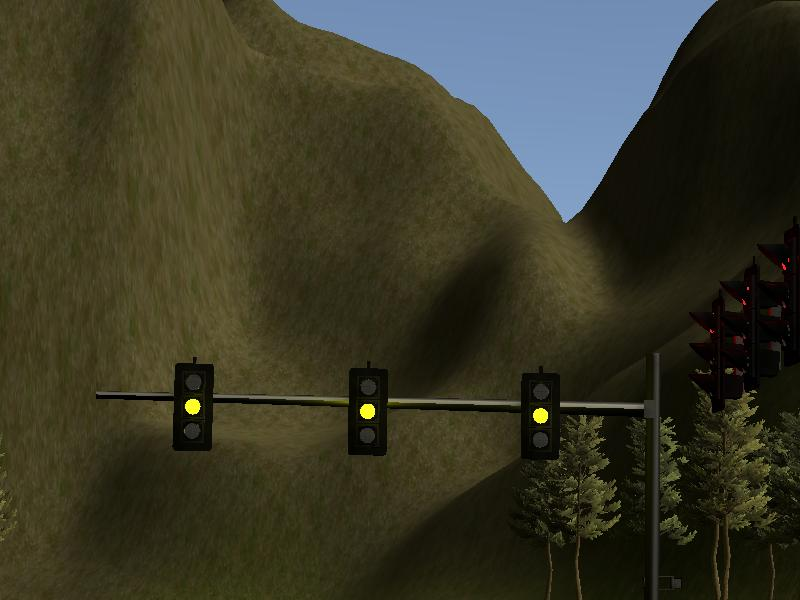yellow: (171, 361, 214, 452), (347, 365, 390, 456), (519, 370, 562, 461)
